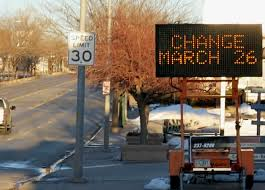speedLimit30: (67, 29, 97, 66)
